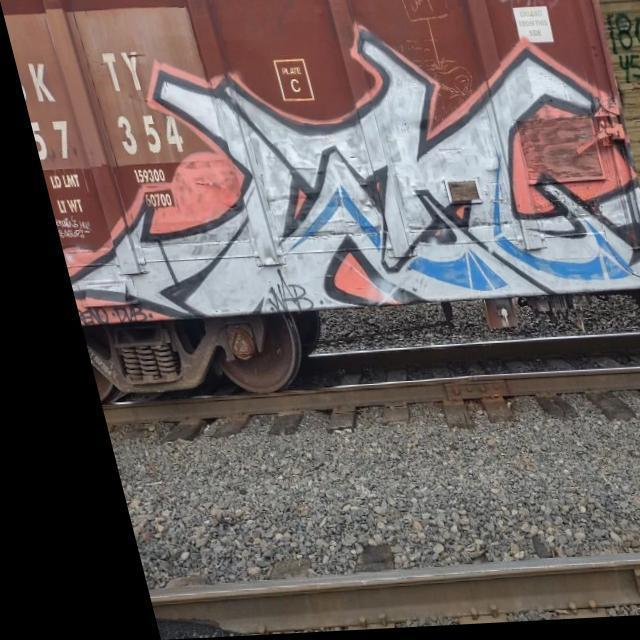-: (6, 7, 640, 326), (10, 44, 202, 165), (381, 0, 476, 101), (598, 8, 640, 101), (495, 0, 559, 15)
